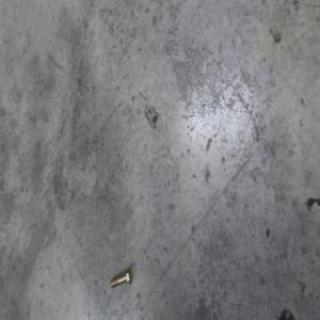Bolttrack_idkeyframe: (109, 264, 132, 286)
